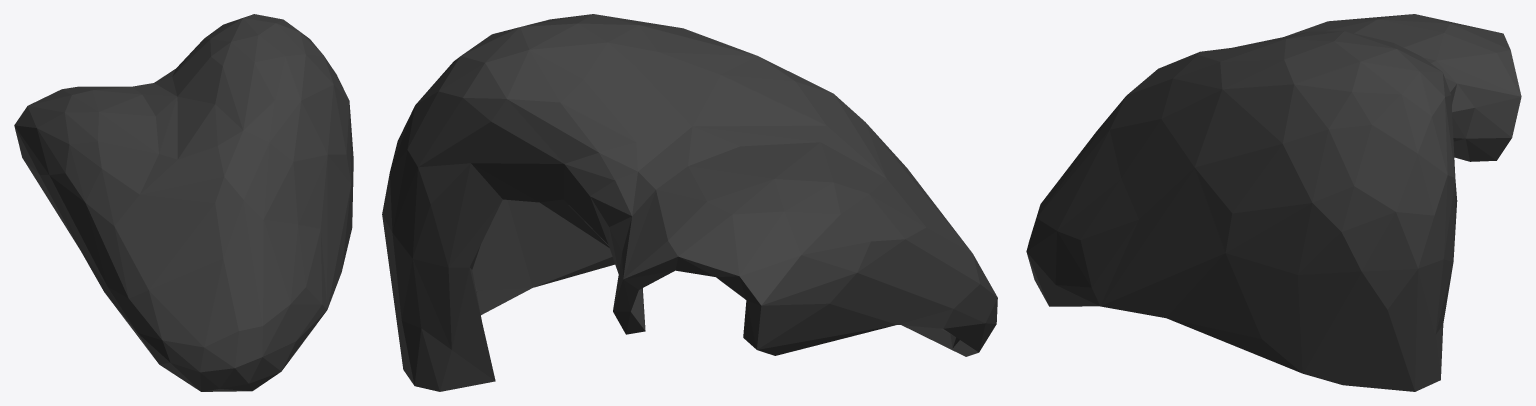
The model's file is Femur_greater_trochanter.glb.
3 renders of one model, left to right at view 1: azimuth 30°, elevation 25°; view 2: azimuth 150°, elevation 25°; view 3: azimuth 270°, elevation 25°, orthographic. The views are drawn at different scales.
Parts seen in each view (by area): view 1: Femur_greater_trochanter; view 2: Femur_greater_trochanter; view 3: Femur_greater_trochanter.
Boxes of the visible parts, left/top/right/bottom form: Femur_greater_trochanter: left=14, top=14, right=353, bottom=391; Femur_greater_trochanter: left=382, top=14, right=997, bottom=391; Femur_greater_trochanter: left=1026, top=14, right=1521, bottom=391.
Bounding box in the file's own units: 0.0289 × 0.0234 × 0.0313.
1 material, 1 textured.
